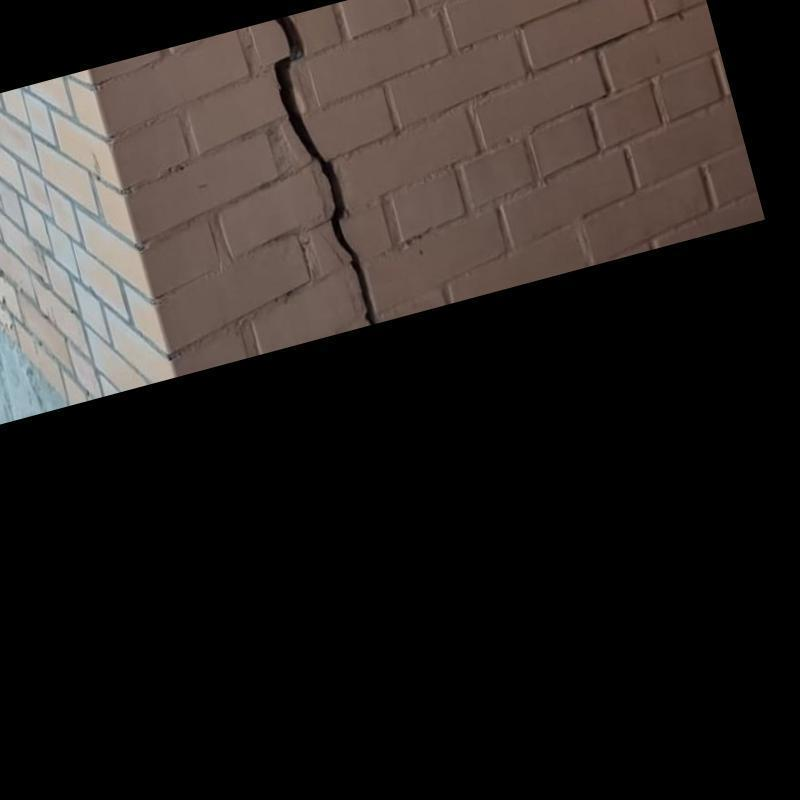pothole: (275, 15, 378, 324)
